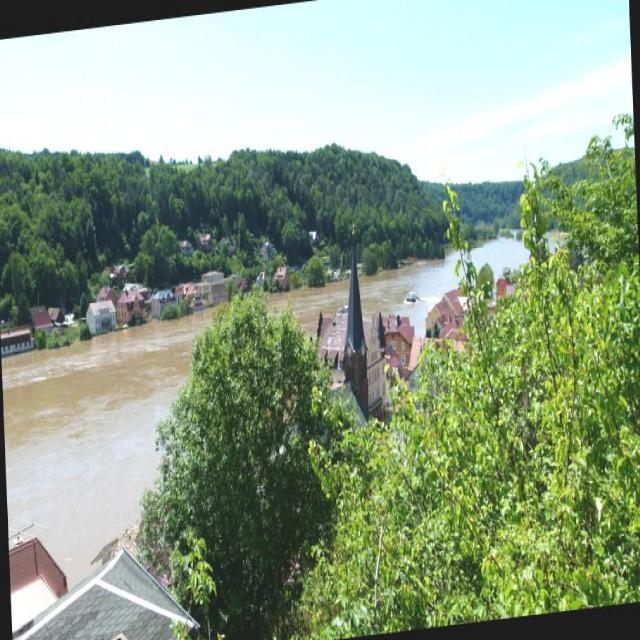flood: (0, 304, 183, 521)
